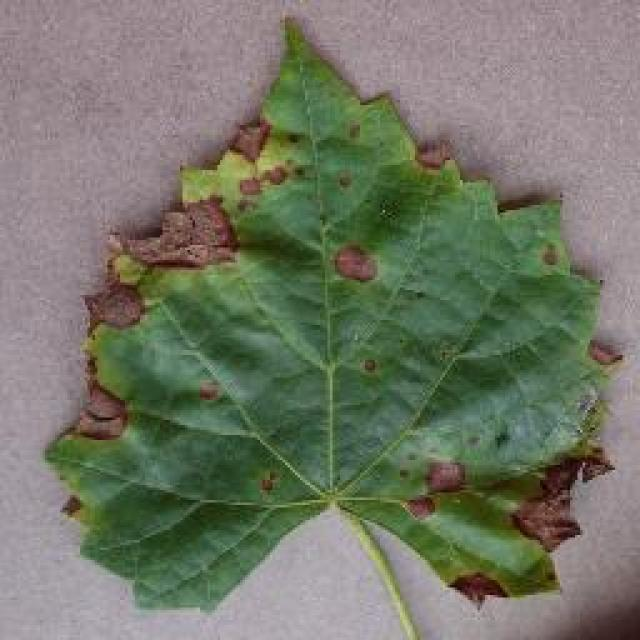Grape___Black_rot: (33, 11, 632, 619)
